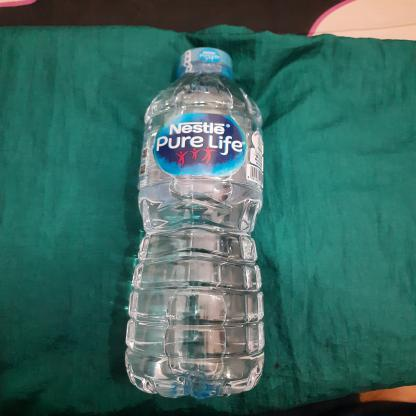bottle: (121, 42, 269, 404)
